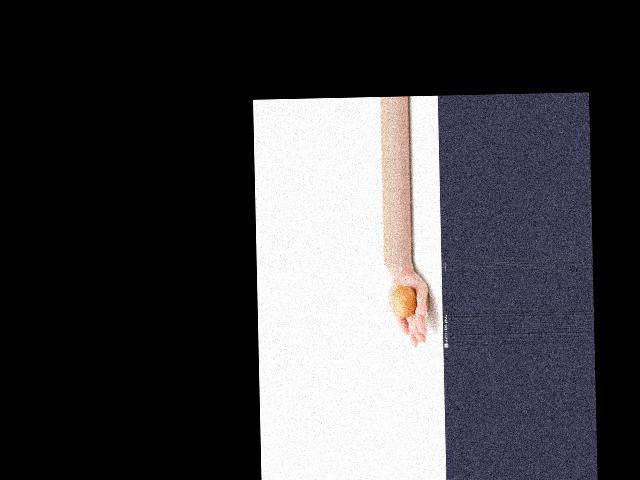egg: (391, 285, 416, 317)
